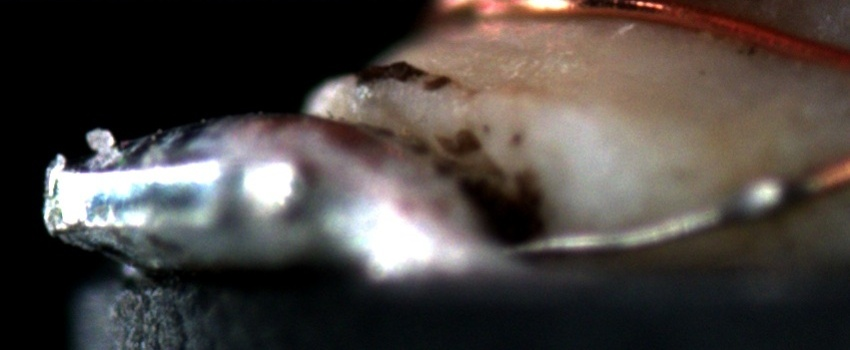TB: (732, 173, 797, 221)
TS: (505, 176, 818, 253)
TTCW: (501, 161, 846, 261)
